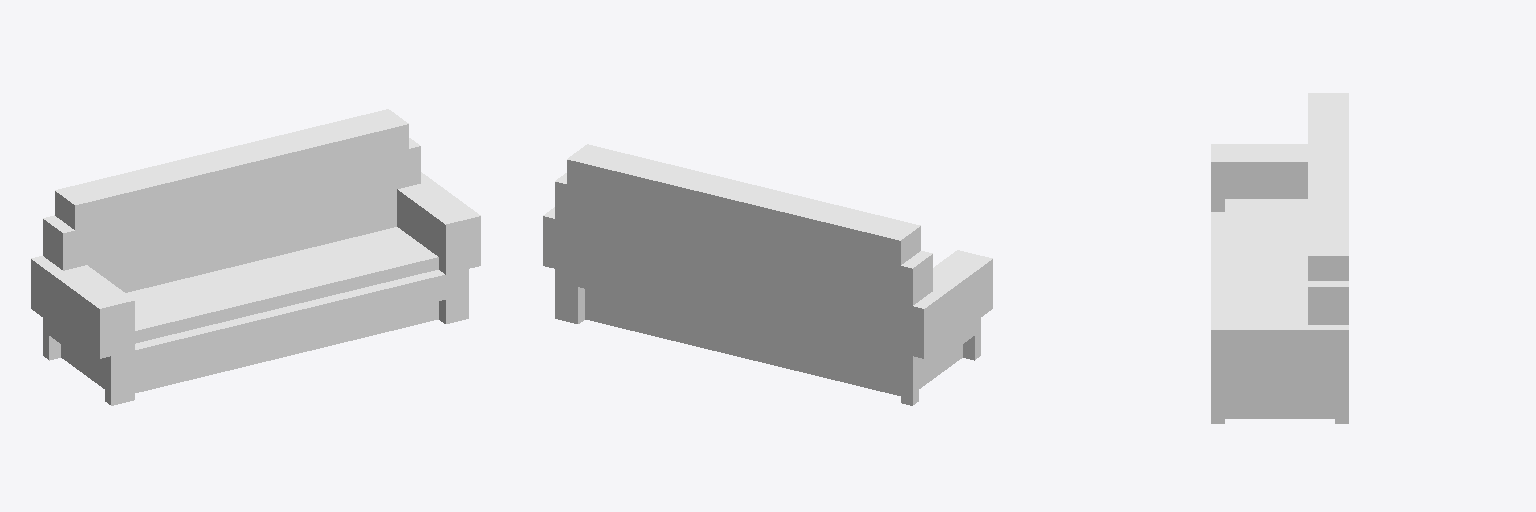
Rendered from sofa.obj.
3 views of the same model, side by side, from view 1: azimuth 30°, elevation 25°; view 2: azimuth 150°, elevation 25°; view 3: azimuth 270°, elevation 25° (orthographic).
Bounding box in the file's own units: 32 × 13 × 10.